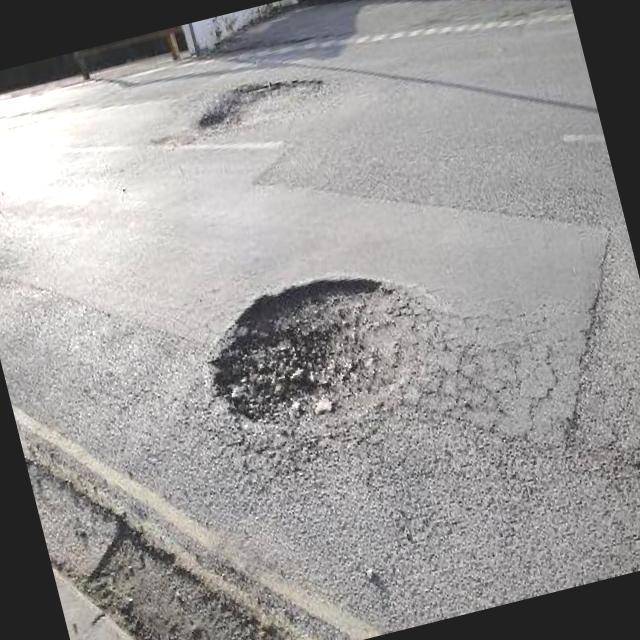pothole: (190, 249, 444, 446), (70, 479, 306, 640), (186, 57, 338, 144)
